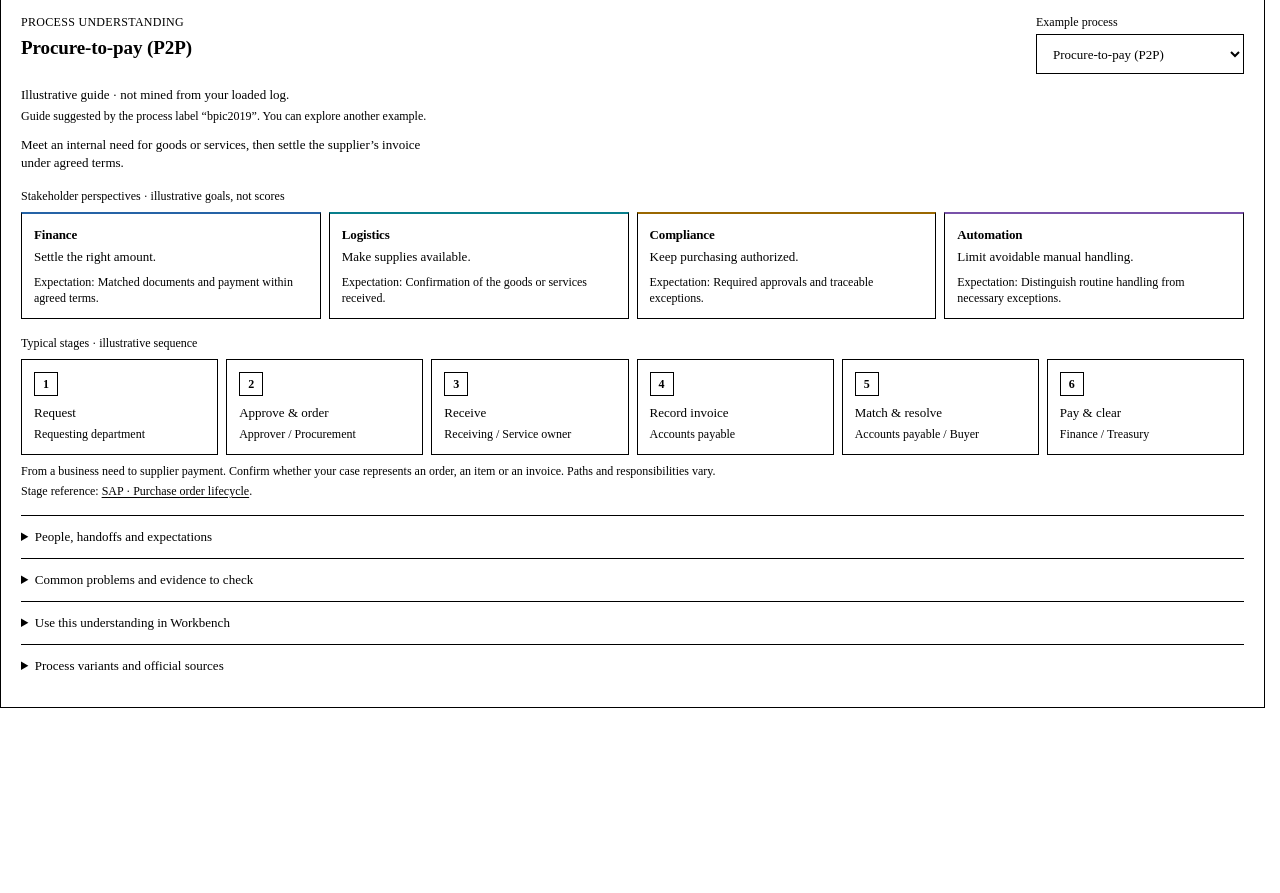
Test: ProcessPrimer › distinguishes the illustrative path, expectations and investigation questions from observations
This screenshot has width=1280, height=893.
Expected: the text "Illustrative guide · not mined from your loaded log." is shown, [21,87,289,102]
Expected: the element "Typical stages · illustrative sequence" shows "Requesting department", [34,427,145,441]
What coordinates should you click on to do the following:
click the heading "People, handoffs and expectations"
I would click on:
 (124, 536)
Its box is [35,529,212,544].
(page scrolled)
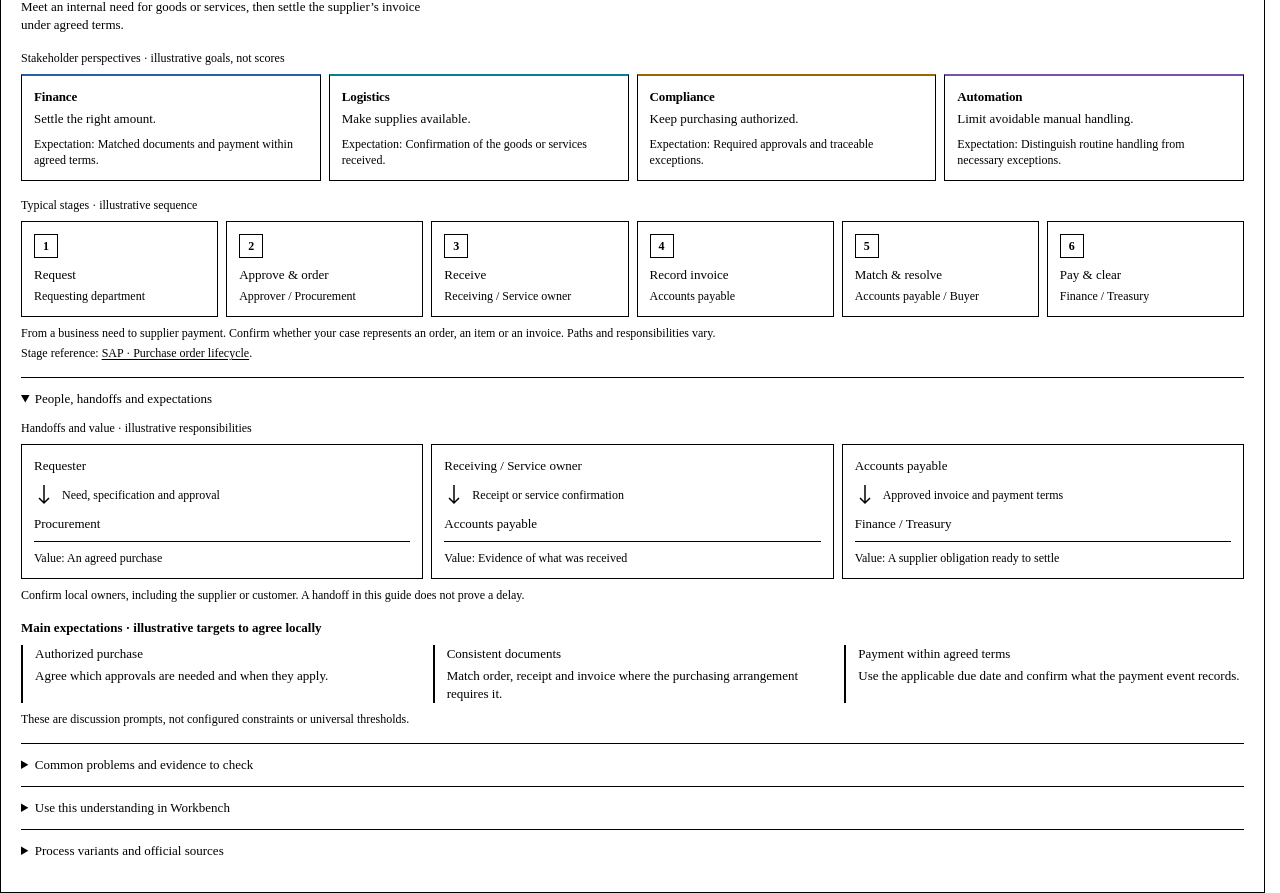
Result: the element "Handoffs and value" shows "Approved invoice and payment terms" at [883,488,1063,502]
Result: the heading "Main expectations · illustrative targets to agree locally" is shown at [21,620,322,635]
Result: the text "not configured constraints or universal thresholds" is shown at [21,712,409,726]
What coordinates should you click on to do the following:
click the heading "Common problems and evidence to check"
I would click on:
 (144, 764)
Its box is [35,757,253,772].
(page scrolled)
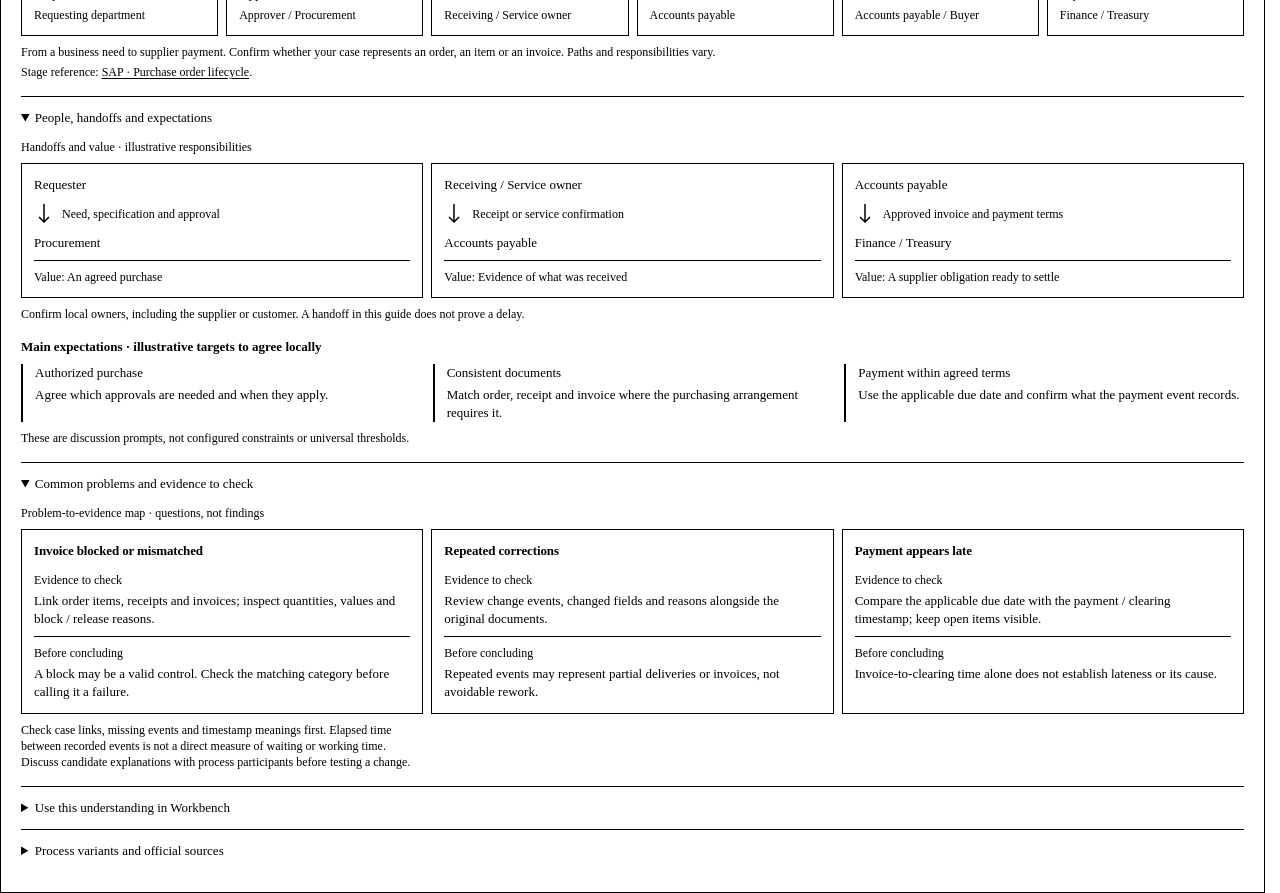
Result: the element "Problem-to-evidence map · questions, not findings" shows "A block may be a valid control" at [34,666,389,699]
What coordinates should you click on to do the following:
click the heading "Process variants and official sources"
I would click on:
 (129, 850)
Its box is [35,843,224,858].
(page scrolled)
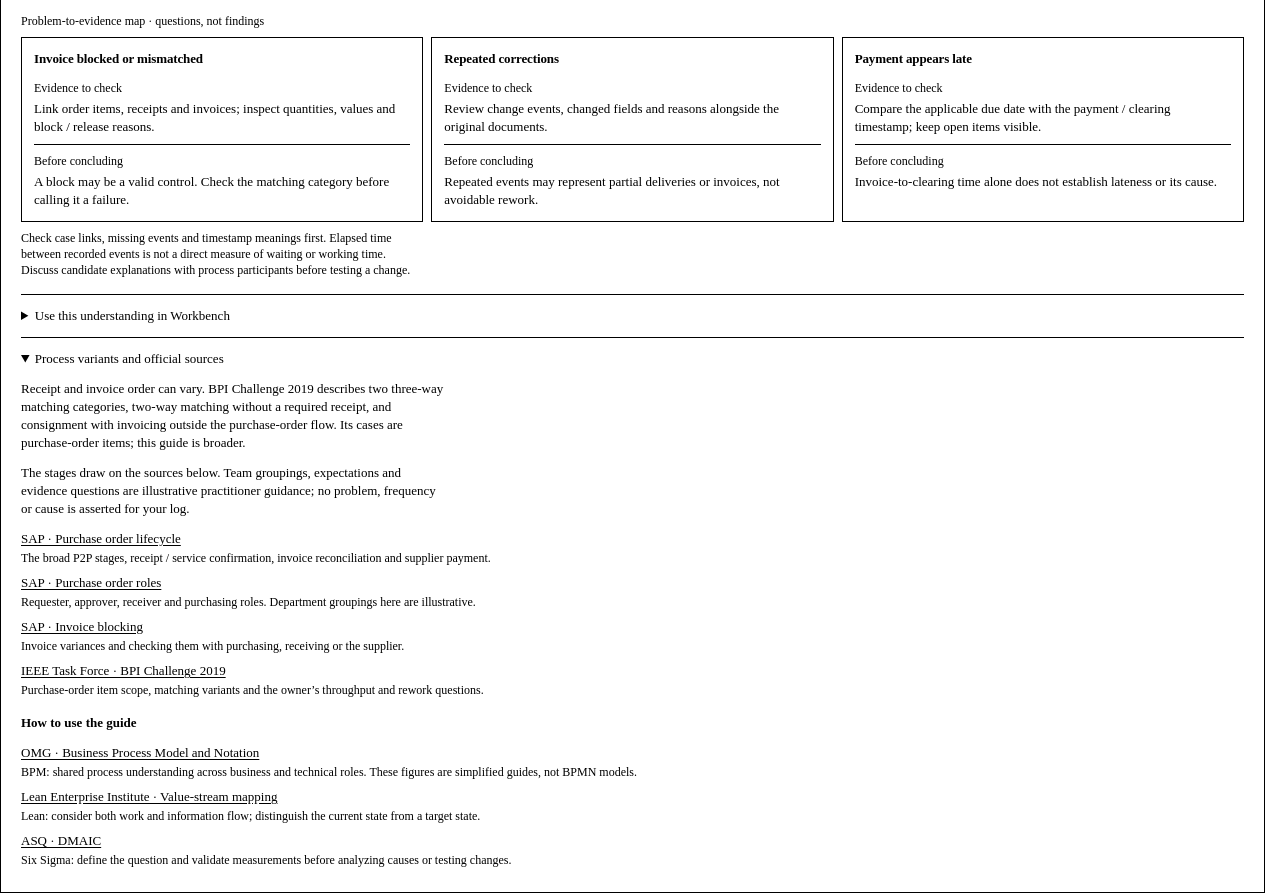
Result: the text "two-way matching without a required receipt" is shown at [21,381,443,450]
